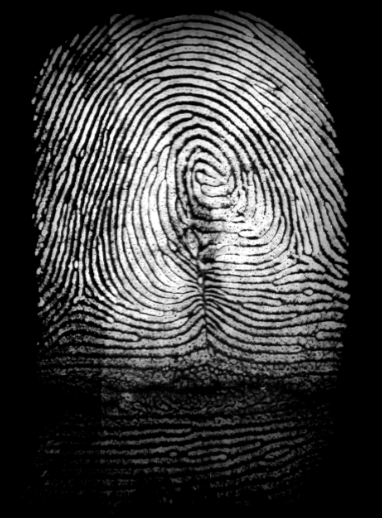deltas: (50, 257, 108, 314), (265, 222, 317, 284)
nucleo: (173, 142, 235, 202)
